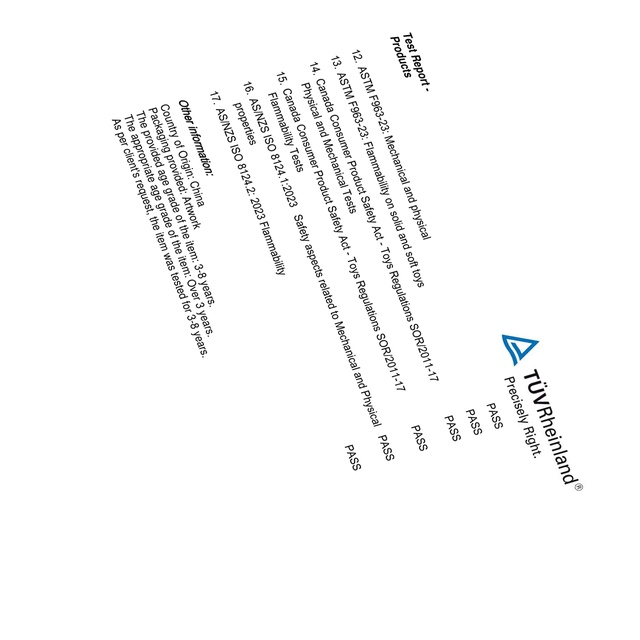tuv_rheinland: (499, 331, 587, 496)
